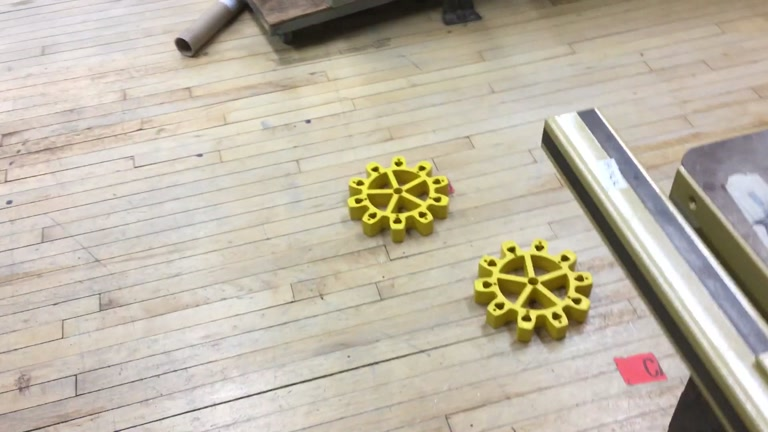gear: (474, 238, 592, 345), (346, 155, 453, 243)
